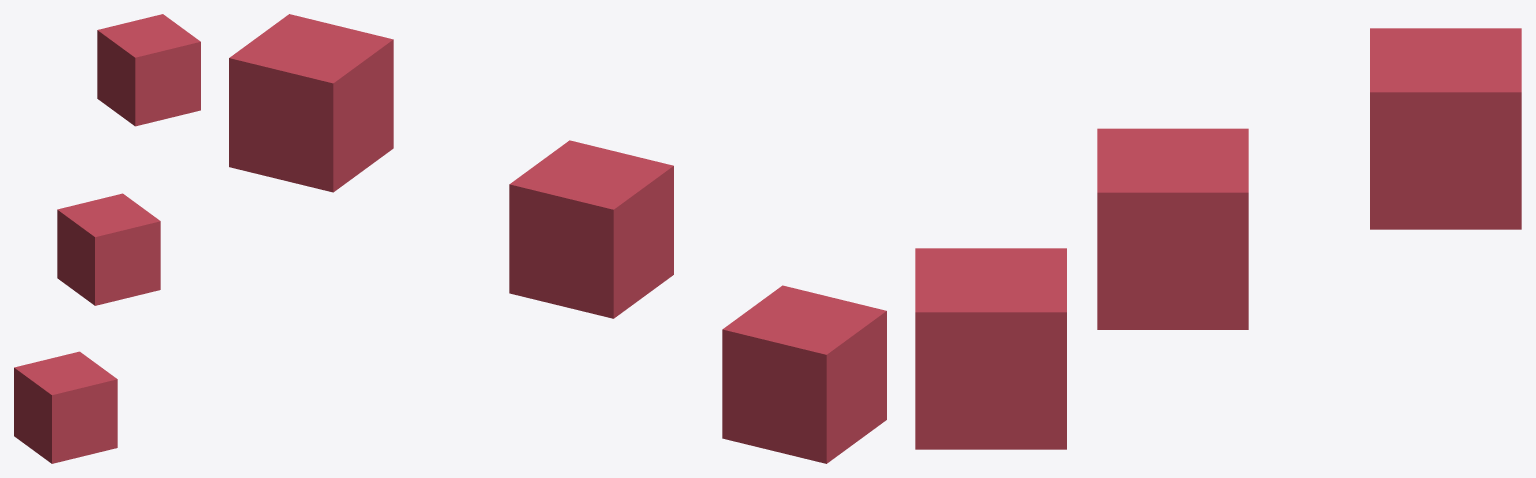
Rendered from arnoldalign.glb.
3 renders of one model, left to right at view 1: azimuth 30°, elevation 25°; view 2: azimuth 150°, elevation 25°; view 3: azimuth 270°, elevation 25°, orthographic. The views are drawn at different scales.
Parts seen in each view (by area): view 1: Mesh_Mesh_head_geo.001_lambert2SG.001; view 2: Mesh_Mesh_head_geo.001_lambert2SG.001; view 3: Mesh_Mesh_head_geo.001_lambert2SG.001.
Part boxes in pixels (<box>): Mesh_Mesh_head_geo.001_lambert2SG.001: <box>14,14,200,463</box>; Mesh_Mesh_head_geo.001_lambert2SG.001: <box>229,14,886,463</box>; Mesh_Mesh_head_geo.001_lambert2SG.001: <box>915,28,1521,449</box>.
Bounding box in the file's own units: 80 × 80 × 80.
